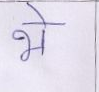e_matra: (26, 3, 47, 21)
